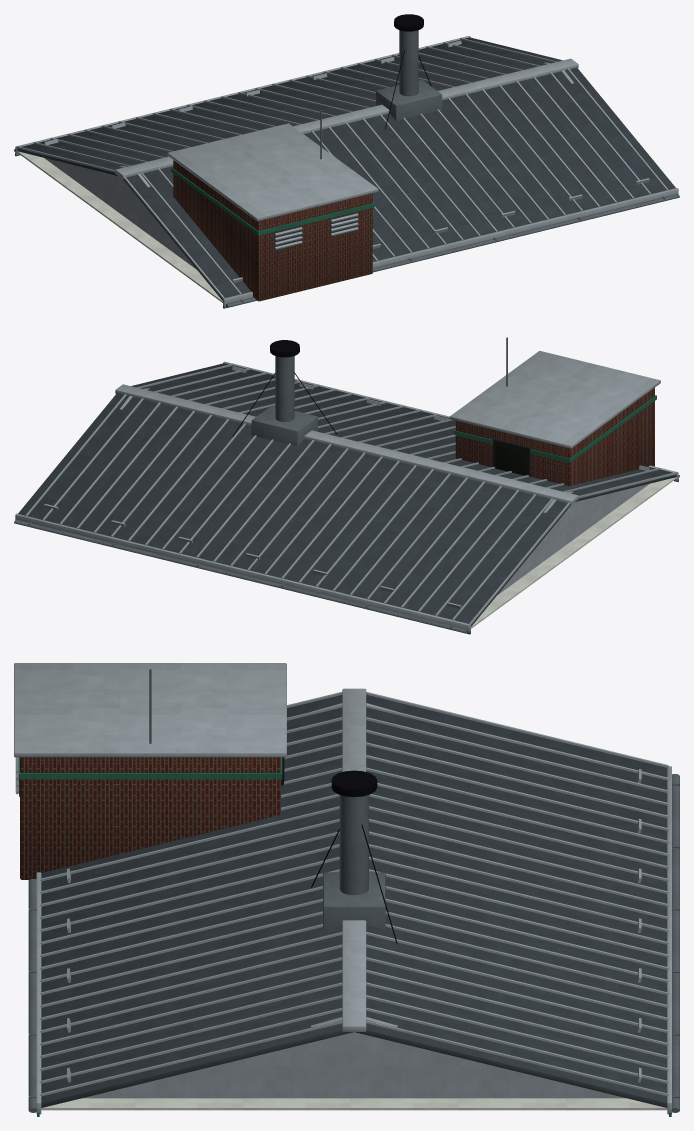
The model's file is fac_welfare_roof.glb.
3 views of the same model, one above another, from view 1: azimuth 30°, elevation 25°; view 2: azimuth 150°, elevation 25°; view 3: azimuth 270°, elevation 25° (orthographic). The views are drawn at different scales.
Visible parts, largest first — view 1: FAC_WELFARE_ROOF; view 2: FAC_WELFARE_ROOF; view 3: FAC_WELFARE_ROOF.
Part boxes in pixels (left/top/right/bottom): FAC_WELFARE_ROOF: left=14, top=14, right=679, bottom=308; FAC_WELFARE_ROOF: left=14, top=337, right=679, bottom=634; FAC_WELFARE_ROOF: left=14, top=663, right=679, bottom=1116.
Bounding box in the file's own units: 14.7 × 4.34 × 12.25.
Materials: 11 (11 with a texture image).
